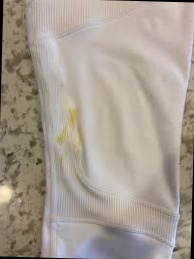mustard: (58, 108, 78, 142), (53, 154, 62, 177)
